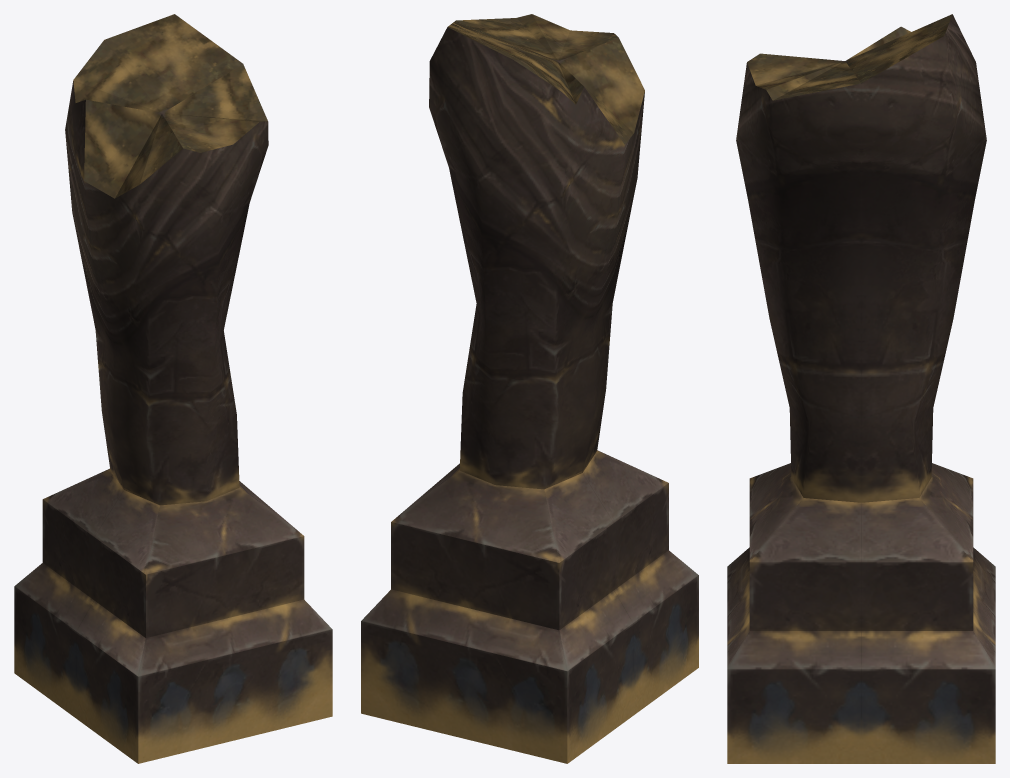
The model's file is common_yewai_shamodiaoxiang_po1.FBX.
3 views of the same model, side by side, from view 1: azimuth 30°, elevation 25°; view 2: azimuth 150°, elevation 25°; view 3: azimuth 270°, elevation 25° (orthographic). The views are drawn at different scales.
Visible parts, largest first — view 1: common_yewai_shamodiaoxiang_po1; view 2: common_yewai_shamodiaoxiang_po1; view 3: common_yewai_shamodiaoxiang_po1.
Boxes of the visible parts, x1,y1,x2,y2 form: common_yewai_shamodiaoxiang_po1: [14, 14, 332, 763]; common_yewai_shamodiaoxiang_po1: [361, 14, 698, 763]; common_yewai_shamodiaoxiang_po1: [727, 14, 995, 763].
Size of the model in its own units: 1.06 by 3.37 by 1.17.
